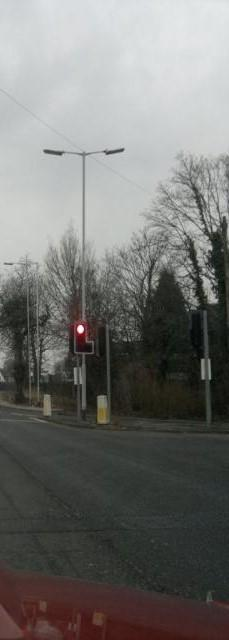red_light: (74, 322, 94, 354)
